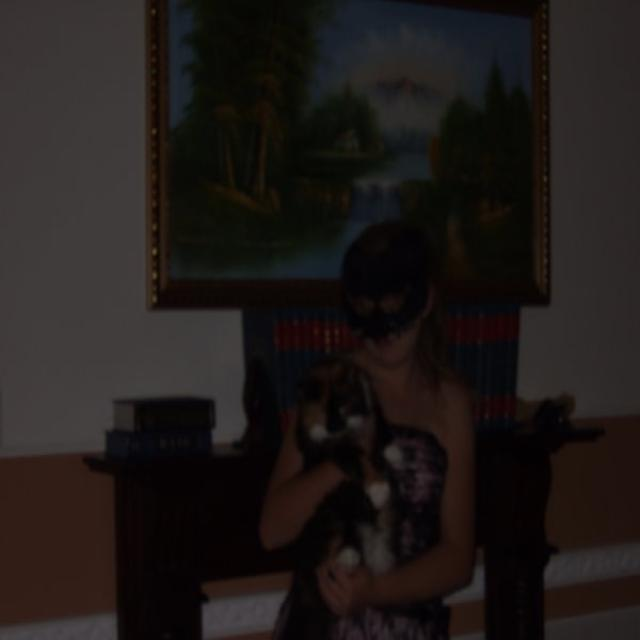Cat: (290, 347, 432, 640)
People: (251, 212, 492, 640)
Table: (93, 369, 612, 639)
